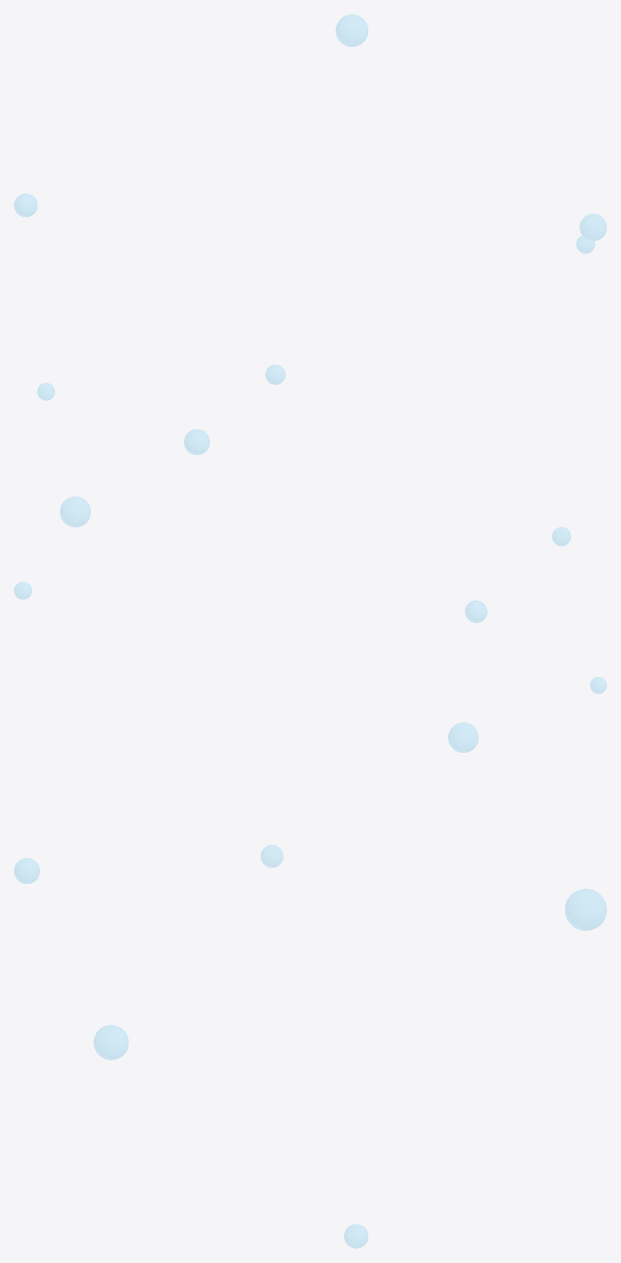
Rendered from ev_core_r11_nodes.glb.
3 views of the same model, one above another, from view 1: azimuth 30°, elevation 25°; view 2: azimuth 150°, elevation 25°; view 3: azimuth 270°, elevation 25° (orthographic). The views are drawn at different scales.
Parts seen in each view (by area): view 1: CognitionNode_0, CognitionNode_2; view 2: CognitionNode_0, CognitionNode_2, CognitionNode_1; view 3: CognitionNode_0, CognitionNode_2, CognitionNode_1.
Part boxes in pixels (left/top/right/bottom): CognitionNode_0: left=335, top=14, right=368, bottom=46; CognitionNode_2: left=579, top=213, right=606, bottom=241; CognitionNode_0: left=60, top=496, right=90, bottom=527; CognitionNode_2: left=184, top=429, right=209, bottom=454; CognitionNode_1: left=465, top=600, right=487, bottom=622; CognitionNode_0: left=565, top=888, right=606, bottom=930; CognitionNode_2: left=93, top=1025, right=128, bottom=1060; CognitionNode_1: left=448, top=722, right=478, bottom=752.
Size of the model in its own units: 2.28 by 0.767 by 1.55.
